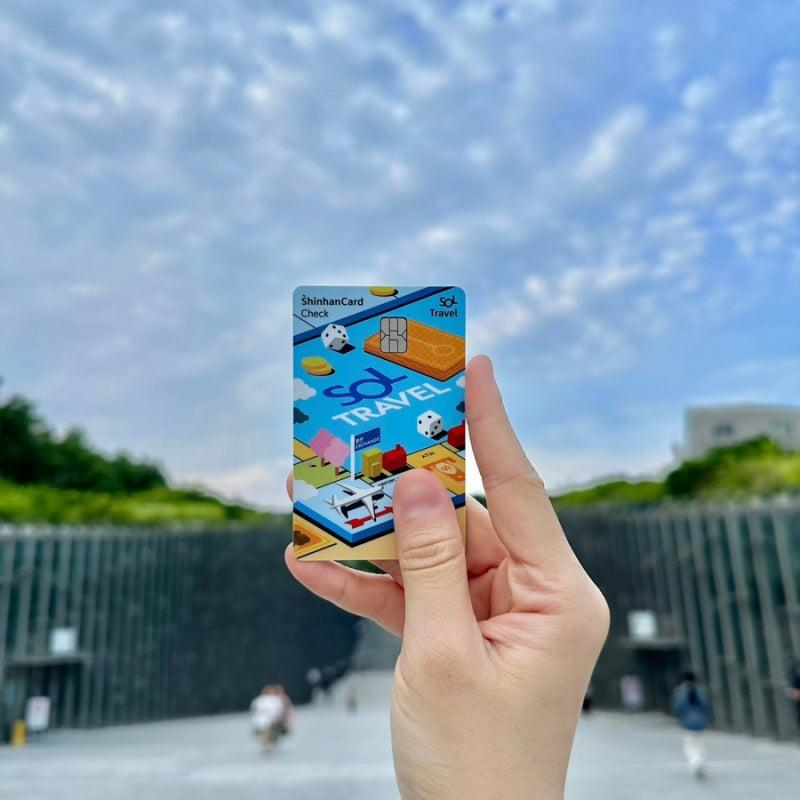Credit_card: (291, 286, 464, 565)
